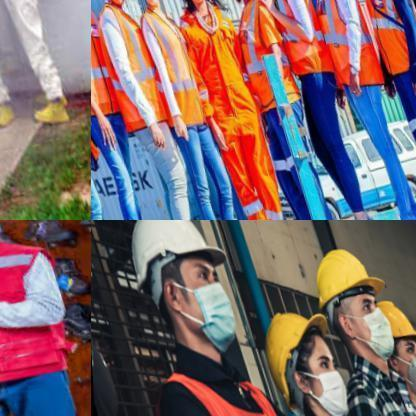vest: (173, 0, 294, 219), (0, 220, 83, 413), (156, 332, 345, 415), (129, 0, 212, 138), (91, 0, 170, 139), (222, 0, 304, 117), (303, 0, 383, 98), (259, 0, 336, 87), (0, 0, 74, 90), (350, 0, 415, 89), (91, 0, 123, 128)
